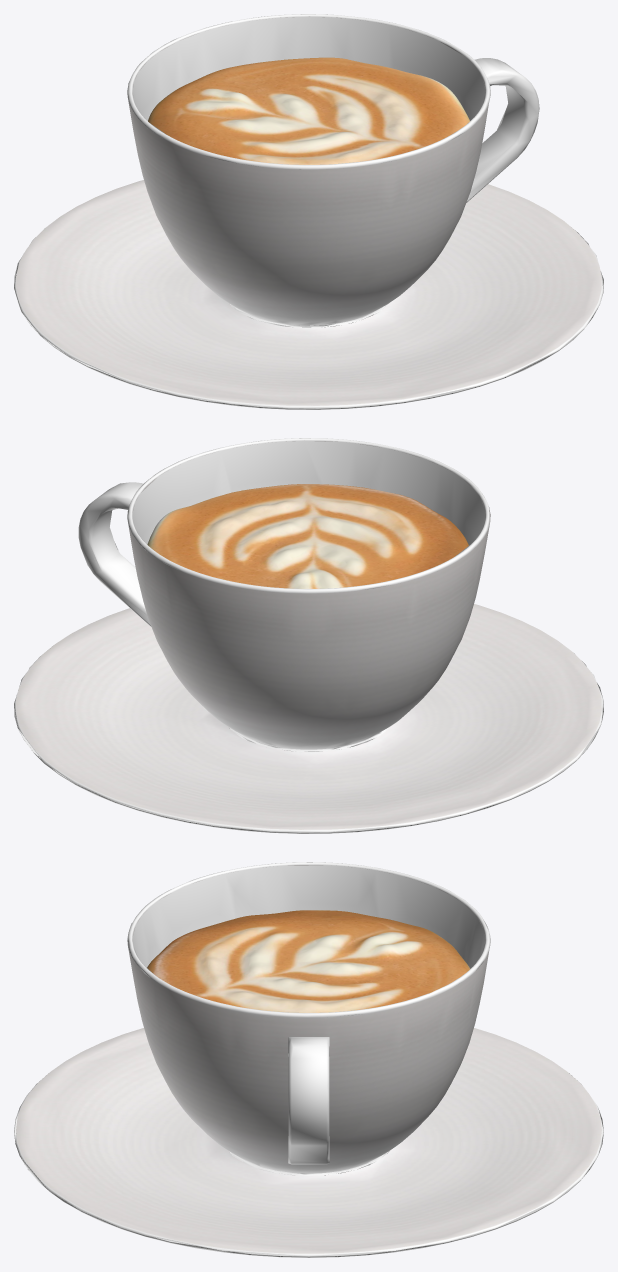
File: latte-cup.glb
3 renders of one model, top to bottom at view 1: azimuth 30°, elevation 25°; view 2: azimuth 150°, elevation 25°; view 3: azimuth 270°, elevation 25°, orthographic.
Parts seen in each view (by area): view 1: Cup, Foam; view 2: Cup, Foam; view 3: Cup, Foam.
Part boxes in pixels (box(x1,y1,x2,y2)): Cup: box(14, 14, 603, 409); Foam: box(148, 57, 469, 164); Cup: box(14, 438, 603, 833); Foam: box(147, 484, 468, 588); Cup: box(14, 862, 603, 1257); Foam: box(147, 910, 470, 1012).
Size of the model in its own units: 0.2846 by 0.1132 by 0.2846.
4 materials, 2 textured.
